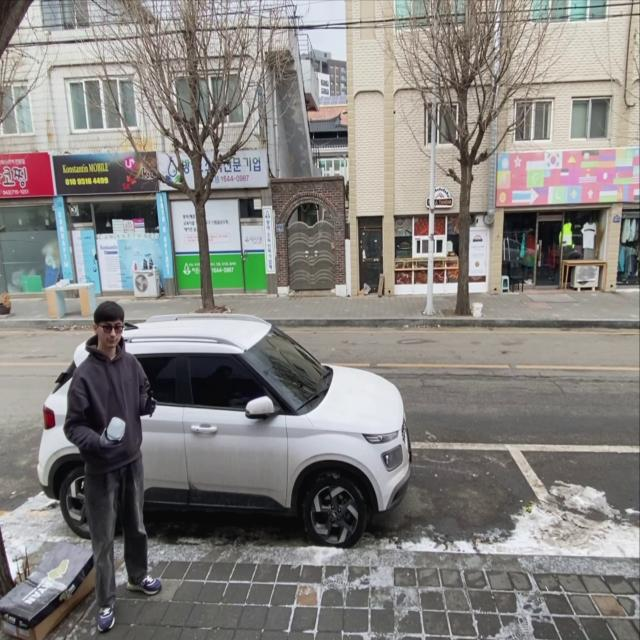gloved_hand: (98, 426, 122, 450), (145, 394, 159, 421)
